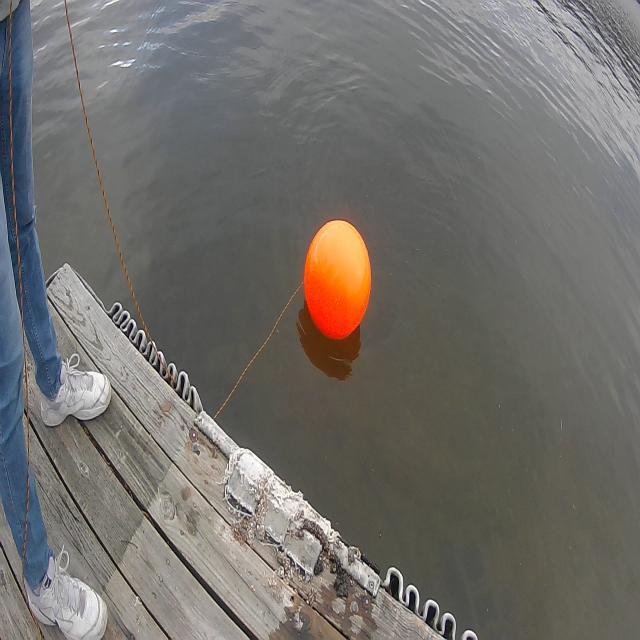Buoy: (300, 215, 376, 351)
